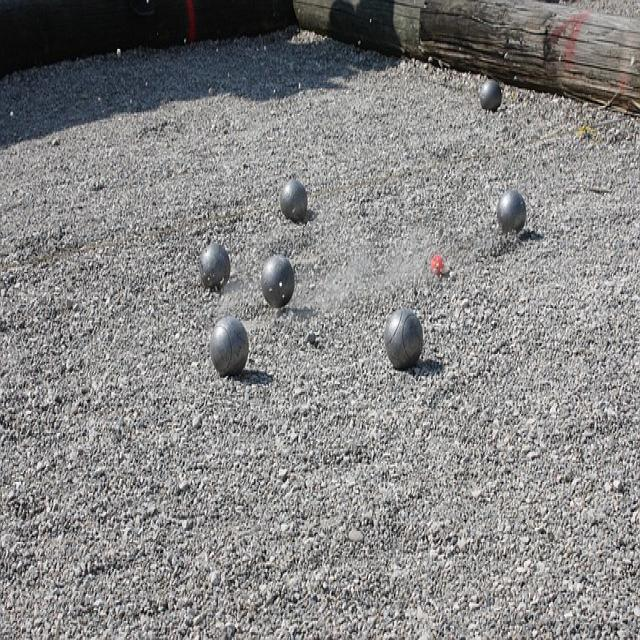hatball: (425, 249, 450, 282)
petanque: (374, 301, 432, 376), (198, 310, 254, 383), (252, 243, 301, 321), (195, 235, 237, 302), (272, 173, 314, 231), (493, 182, 531, 242), (477, 77, 508, 121)
